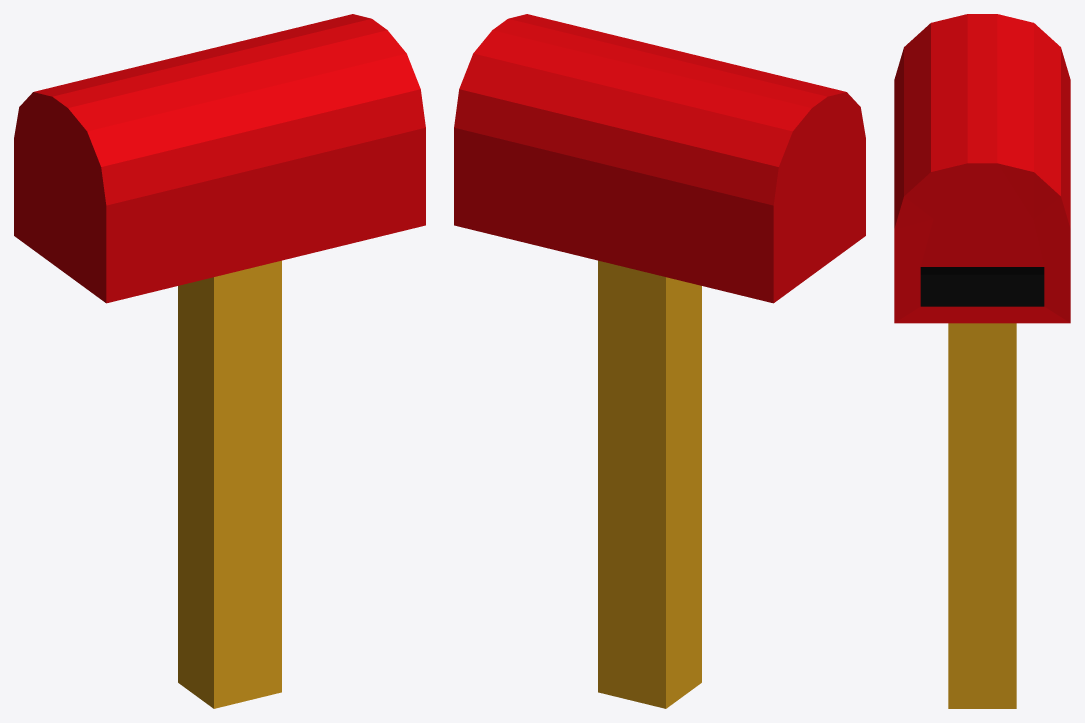
The model's file is PostBox.fbx.
3 renders of one model, left to right at view 1: azimuth 30°, elevation 25°; view 2: azimuth 150°, elevation 25°; view 3: azimuth 270°, elevation 25°, orthographic. The views are drawn at different scales.
Visible parts, largest first — view 1: Cube; view 2: Cube; view 3: Cube.
Boxes of the visible parts, x1,y1,x2,y2 form: Cube: [14, 14, 425, 708]; Cube: [454, 14, 865, 708]; Cube: [894, 14, 1070, 708].
Bounding box in the file's own units: 400 × 749 × 200.
